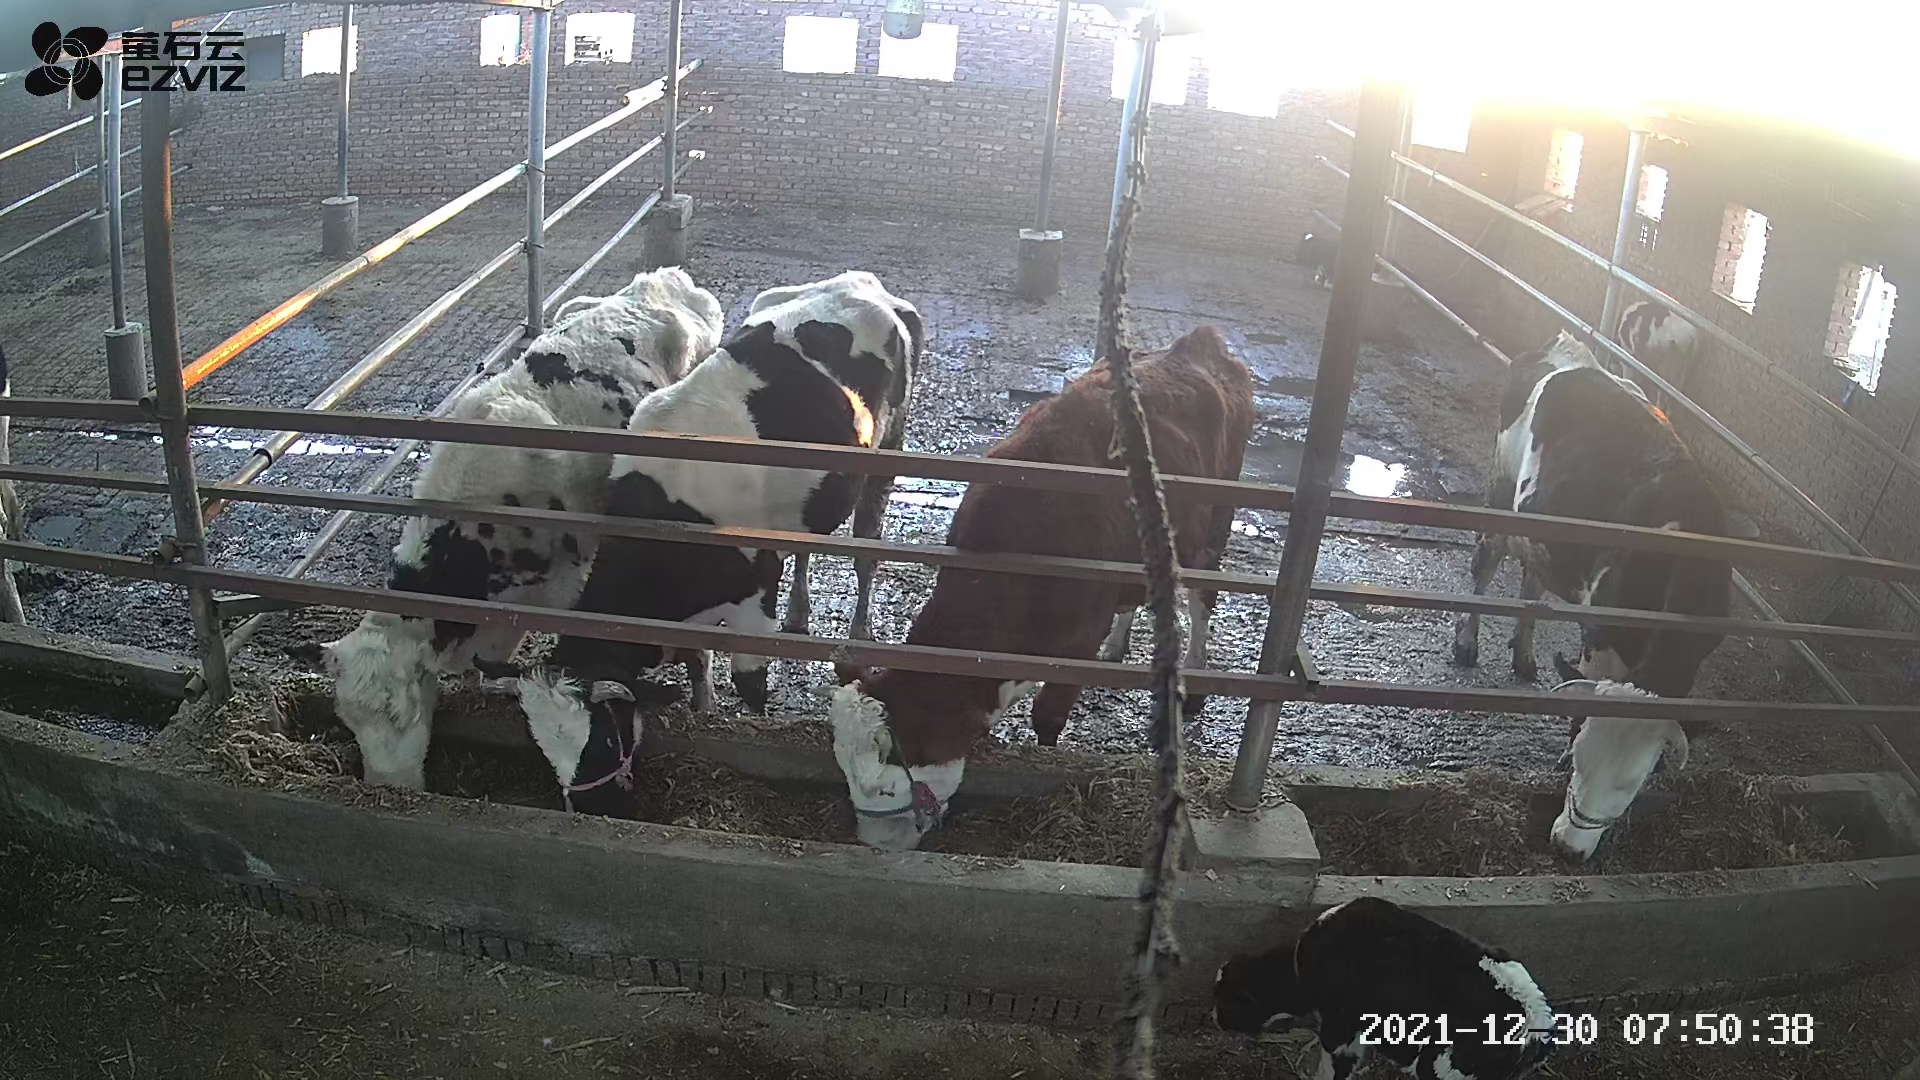cow: (473, 270, 924, 815), (802, 324, 1251, 853), (281, 265, 724, 793), (1452, 330, 1734, 866)
